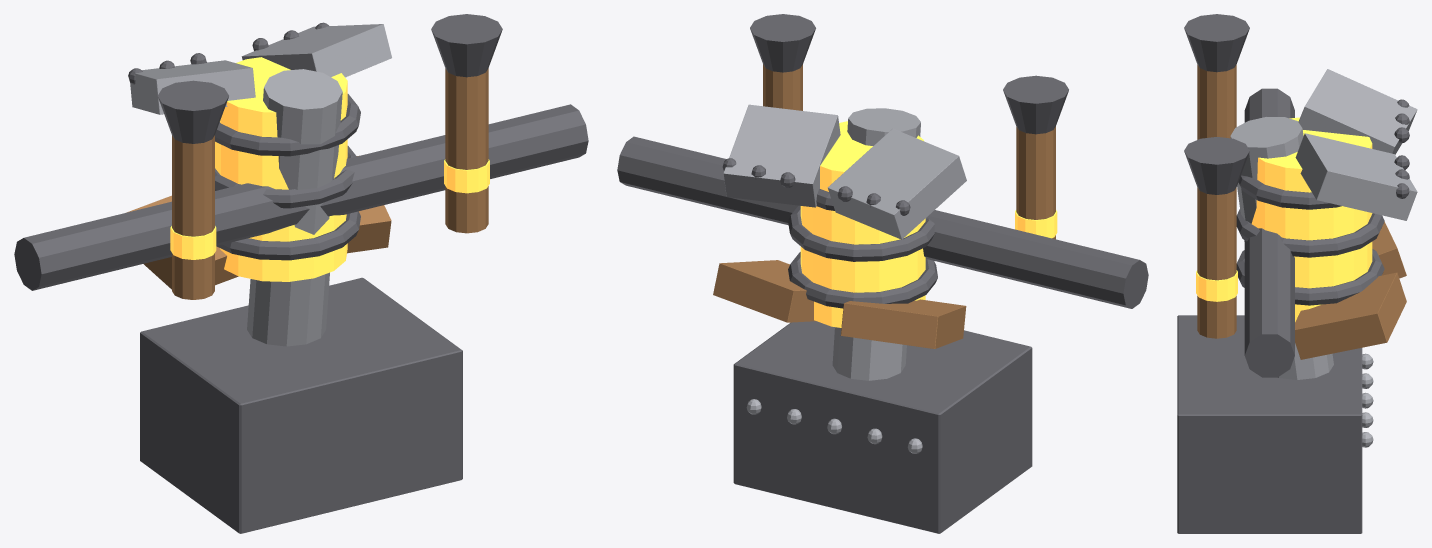
Rendered from burst-coil.glb.
The picture shows the model from 3 angles, left to right: view 1: azimuth 30°, elevation 25°; view 2: azimuth 150°, elevation 25°; view 3: azimuth 270°, elevation 25°; orthographic projection. The views are drawn at different scales.
Visible parts, largest first — view 1: pelvis, yoke, spine, coilcore, stack0.22, stack-0.22, plate_tl, plate_tr, stackflare0.22, stackflare-0.22, coilring0, coilring2 (+5 smaller); view 2: pelvis, yoke, plate_tr, plate_tl, coilcore, plate_lr, spine, plate_ll, stack-0.22, coilring1, stackflare-0.22, stackflare0.22 (+3 smaller); view 3: pelvis, yoke, coilcore, plate_tl, plate_ll, plate_tr, stack0.22, spine, stackflare-0.22, stackflare0.22, stack-0.22, coilring1 (+4 smaller).
Part boxes in pixels (box(x1,y1,x2,y2)): pelvis: box(140, 277, 462, 533); yoke: box(14, 104, 588, 290); spine: box(247, 69, 342, 346); coilcore: box(215, 57, 347, 281); stack0.22: box(445, 68, 488, 233); stack-0.22: box(172, 135, 214, 299); plate_tl: box(241, 24, 391, 77); plate_tr: box(130, 60, 255, 114); stackflare0.22: box(431, 14, 502, 77); stackflare-0.22: box(157, 80, 228, 143); coilring0: box(216, 211, 360, 260); coilring2: box(215, 94, 360, 156); pelvis: box(733, 321, 1032, 533); yoke: box(617, 136, 1148, 308); plate_tr: box(827, 128, 966, 239); plate_tl: box(723, 104, 840, 207); coilcore: box(800, 121, 925, 327); plate_lr: box(840, 299, 966, 348); spine: box(832, 108, 920, 380); plate_ll: box(713, 260, 816, 322); stack-0.22: box(1016, 126, 1055, 239); coilring1: box(788, 205, 934, 261); stackflare-0.22: box(1003, 75, 1068, 134); stackflare0.22: box(750, 14, 815, 72); pelvis: box(1177, 315, 1362, 533); yoke: box(1244, 88, 1294, 377); coilcore: box(1251, 117, 1372, 322); plate_tl: box(1295, 133, 1417, 220); plate_ll: box(1295, 272, 1406, 359); plate_tr: box(1298, 69, 1417, 154); stack0.22: box(1197, 187, 1236, 338); spine: box(1230, 117, 1333, 379); stackflare-0.22: box(1184, 14, 1249, 72); stackflare0.22: box(1184, 137, 1249, 194); stack-0.22: box(1197, 64, 1236, 139); coilring1: box(1236, 209, 1384, 257).
Size of the model in its own units: 0.88 by 0.66 by 0.3637.
